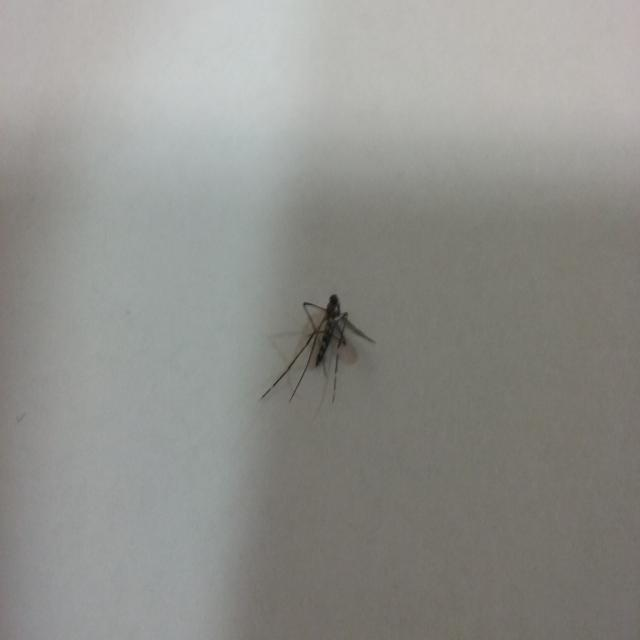albopictus: (262, 280, 377, 410)
